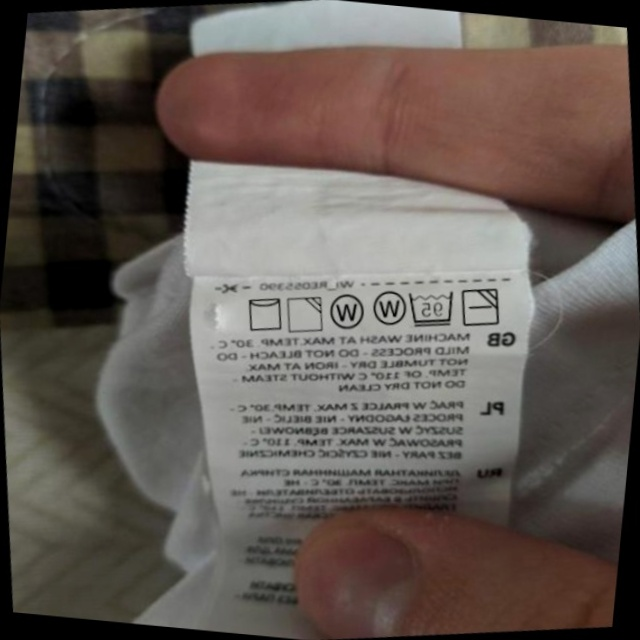95C: (403, 283, 460, 333)
dry_flat_in_shade: (457, 281, 505, 332)
line_dry: (240, 290, 288, 337)
shade_dry: (281, 290, 328, 338)
wet_clean: (324, 289, 369, 336), (366, 283, 410, 331)
